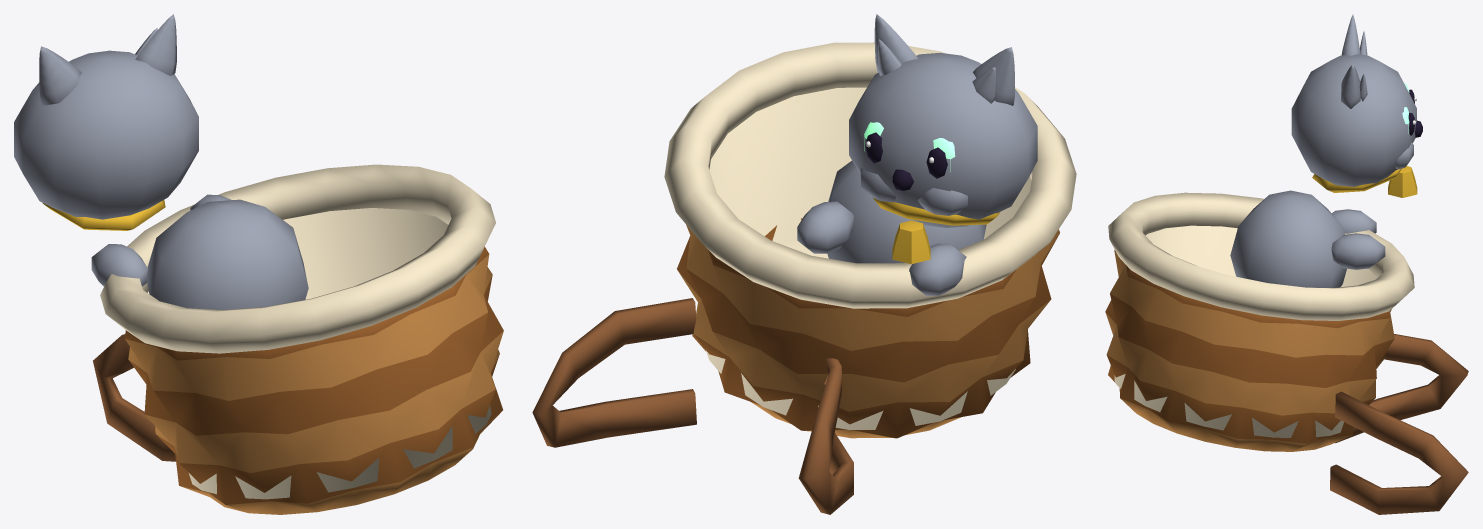
The model's file is chaton_sac.fbx.
3 renders of one model, left to right at view 1: azimuth 30°, elevation 25°; view 2: azimuth 150°, elevation 25°; view 3: azimuth 270°, elevation 25°, orthographic. The views are drawn at different scales.
Visible parts, largest first — view 1: Panier, Anim_TeteChaton, Anim_Chaton; view 2: Panier, Anim_TeteChaton, Anim_Chaton, Anim_PatteChaton, Anim_YeuxChaton, Clochette; view 3: Panier, Anim_TeteChaton, Anim_Chaton, Anim_PatteChaton, Clochette.
Boxes of the visible parts, x1,y1,x2,y2 form: Panier: (93,164,503,514); Anim_TeteChaton: (14,14,198,230); Anim_Chaton: (91,199,308,310); Panier: (532,42,1076,514); Anim_TeteChaton: (849,14,1037,227); Anim_Chaton: (827,161,986,295); Anim_PatteChaton: (797,201,853,253); Anim_YeuxChaton: (864,122,955,178); Clochette: (892,220,930,264); Panier: (1105,192,1468,514); Anim_TeteChaton: (1291,14,1422,192); Anim_Chaton: (1230,190,1376,287); Anim_PatteChaton: (1331,233,1385,269); Clochette: (1388,166,1417,197).
Bounding box in the file's own units: 1.13 × 1.19 × 1.1.
